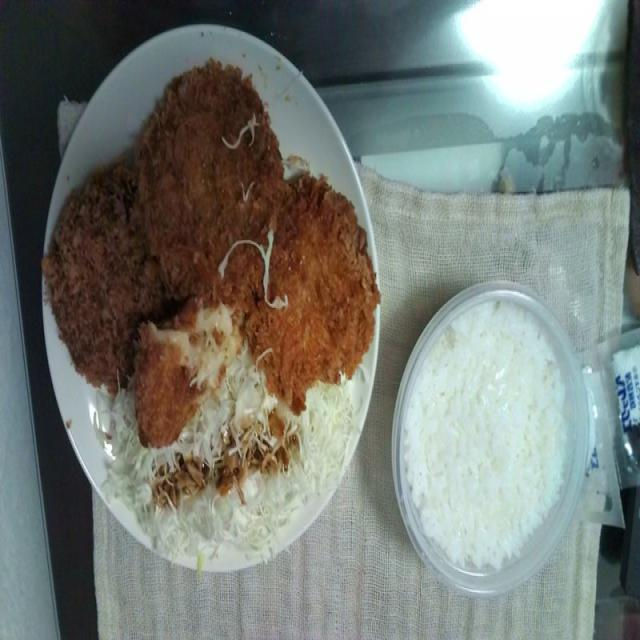Rice: (393, 312, 573, 574)
